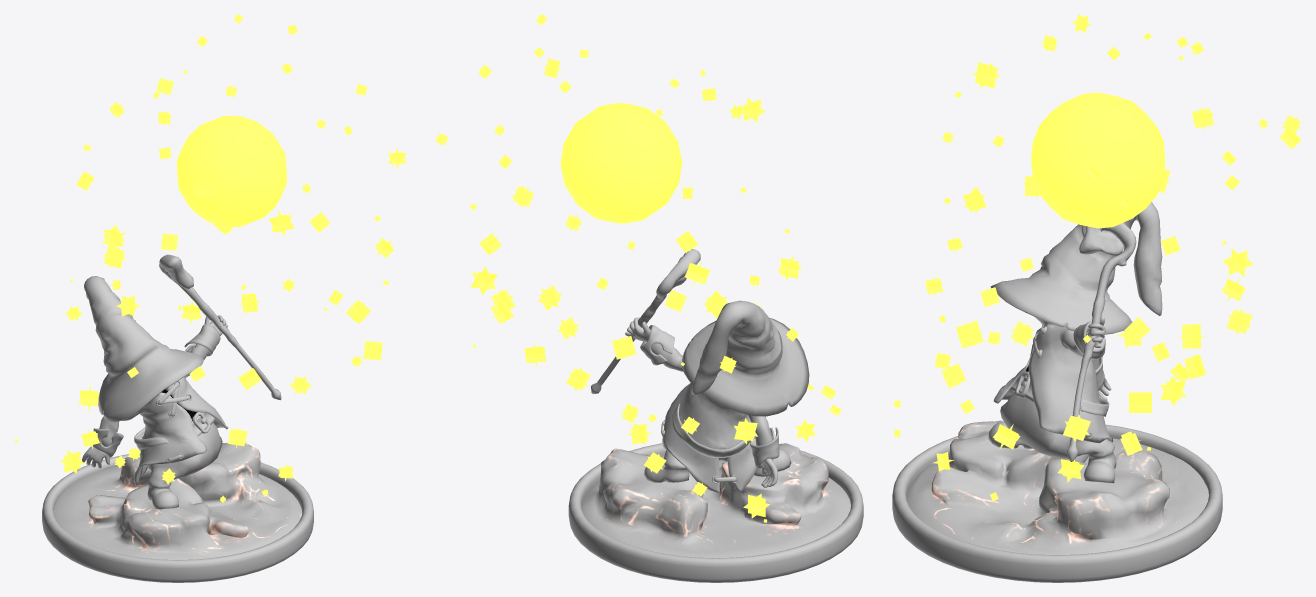
File: vivi_modified.fbx
3 renders of one model, left to right at view 1: azimuth 30°, elevation 25°; view 2: azimuth 150°, elevation 25°; view 3: azimuth 270°, elevation 25°, orthographic. The views are drawn at different scales.
Visible parts, largest first — view 1: Vert.001; view 2: Vert.001; view 3: Vert.001.
Boxes of the visible parts, x1=… form: Vert.001: x1=15, y1=14, x2=406, y2=582; Vert.001: x1=435, y1=14, x2=863, y2=582; Vert.001: x1=892, y1=14, x2=1301, y2=582.
Bounding box in the file's own units: 806 × 1049 × 707.
